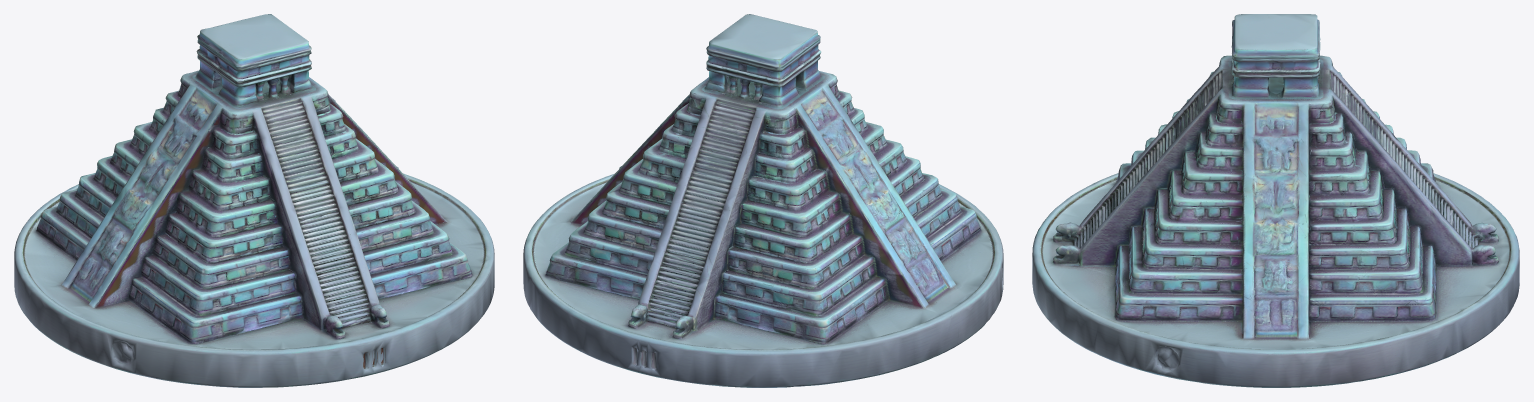
Rendered from chichen_itza_aurora.glb.
3 renders of one model, left to right at view 1: azimuth 30°, elevation 25°; view 2: azimuth 150°, elevation 25°; view 3: azimuth 270°, elevation 25°, orthographic.
Visible parts, largest first — view 1: Mesh_0; view 2: Mesh_0; view 3: Mesh_0.
Boxes of the visible parts, x1,y1,x2,y2 form: Mesh_0: [14, 14, 494, 387]; Mesh_0: [523, 14, 1003, 387]; Mesh_0: [1032, 14, 1519, 387].
Bounding box in the file's own units: 1.91 × 1.1 × 1.91.
Materials: 1 (1 with a texture image).
